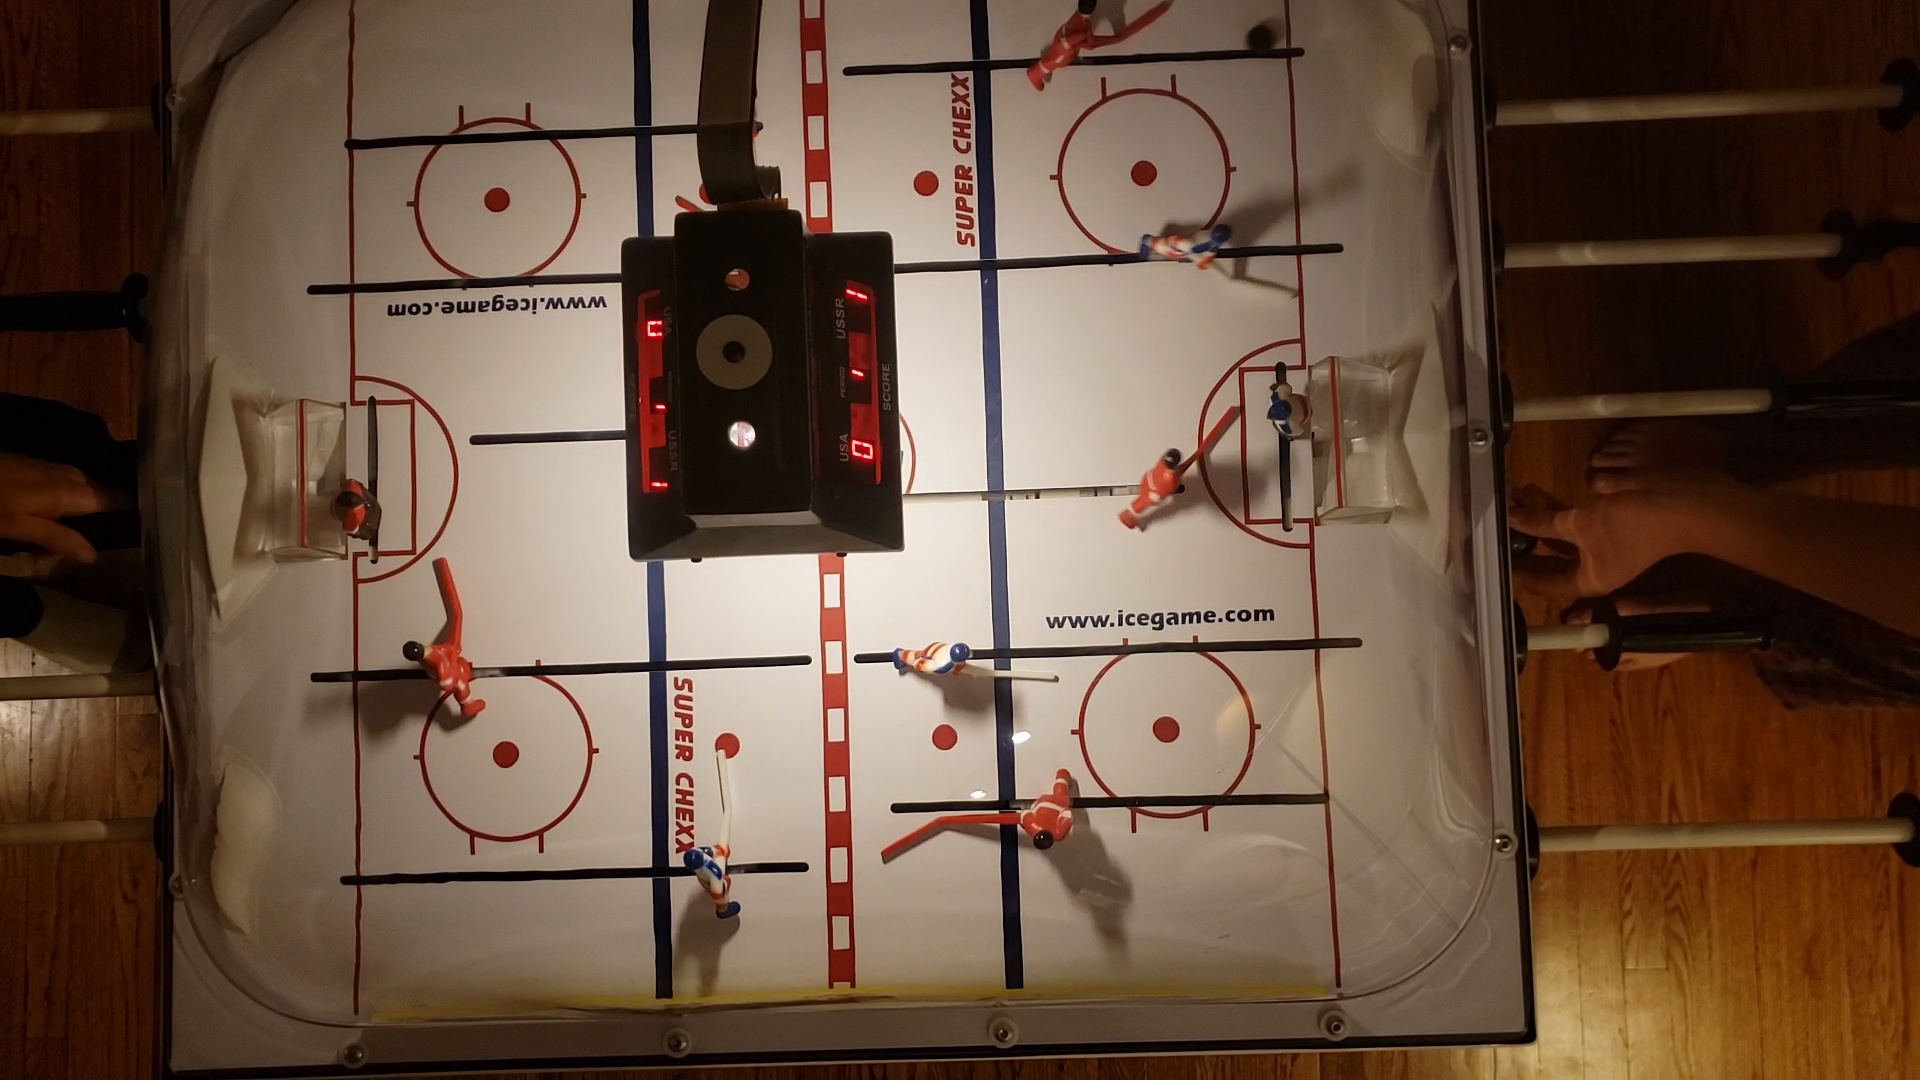puck: (1244, 25, 1279, 54)
